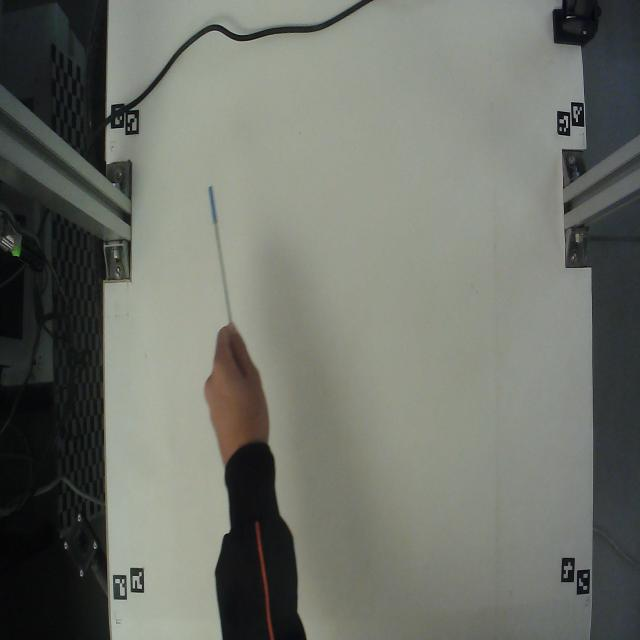NoPres: (204, 161, 244, 352)
